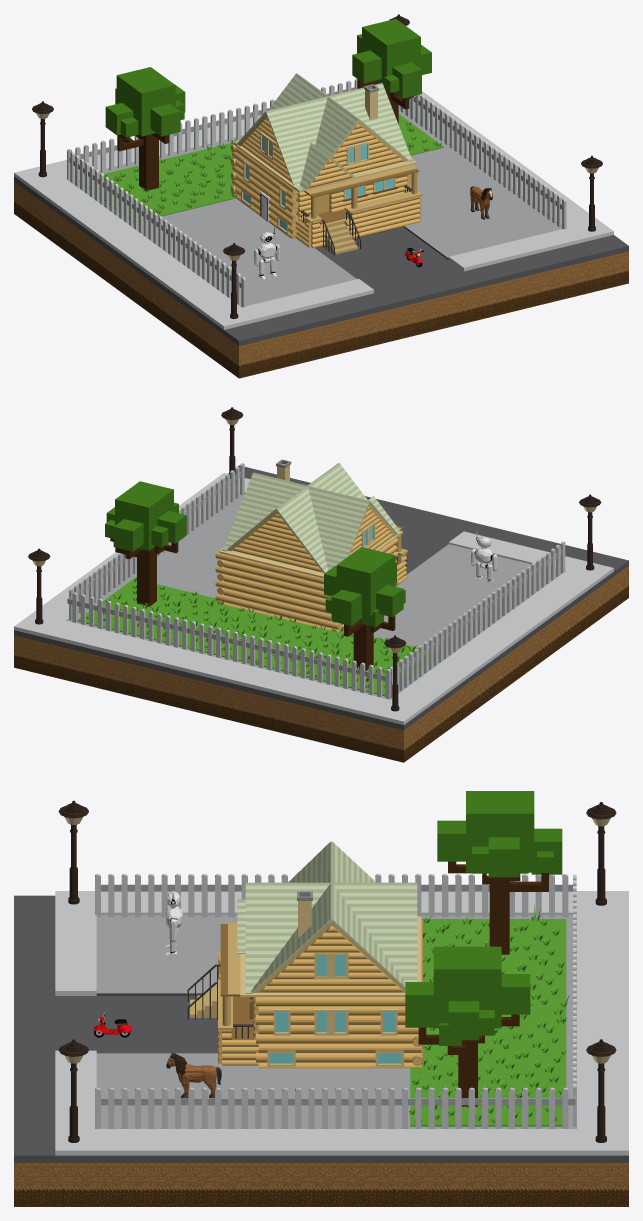
The picture shows the model from 3 angles, top to bottom: view 1: azimuth 30°, elevation 25°; view 2: azimuth 150°, elevation 25°; view 3: azimuth 270°, elevation 25°; orthographic projection. The views are drawn at different scales.
Visible parts, largest first — view 1: Cube.004, Cube.1516, OBJRANDOM_PLATZEEBOT, ANIMAL_CABALLO; view 2: Cube.004, Cube.1516, OBJRANDOM_PLATZEEBOT; view 3: Cube.004, Cube.1516, ANIMAL_CABALLO, OBJRANDOM_PLATZEEBOT.
Boxes of the visible parts, <box> form: Cube.004: <box>14,14,628,378</box>; Cube.1516: <box>230,73,422,255</box>; OBJRANDOM_PLATZEEBOT: <box>254,227,280,279</box>; ANIMAL_CABALLO: <box>470,186,492,219</box>; Cube.004: <box>14,407,628,762</box>; Cube.1516: <box>215,459,407,632</box>; OBJRANDOM_PLATZEEBOT: <box>471,532,497,582</box>; Cube.004: <box>14,791,628,1206</box>; Cube.1516: <box>187,841,422,1068</box>; ANIMAL_CABALLO: <box>166,1053,221,1098</box>; OBJRANDOM_PLATZEEBOT: <box>164,891,183,955</box>.
Size of the model in its own units: 4000 by 1603 by 4000.
Materials: 37 (4 with a texture image).
